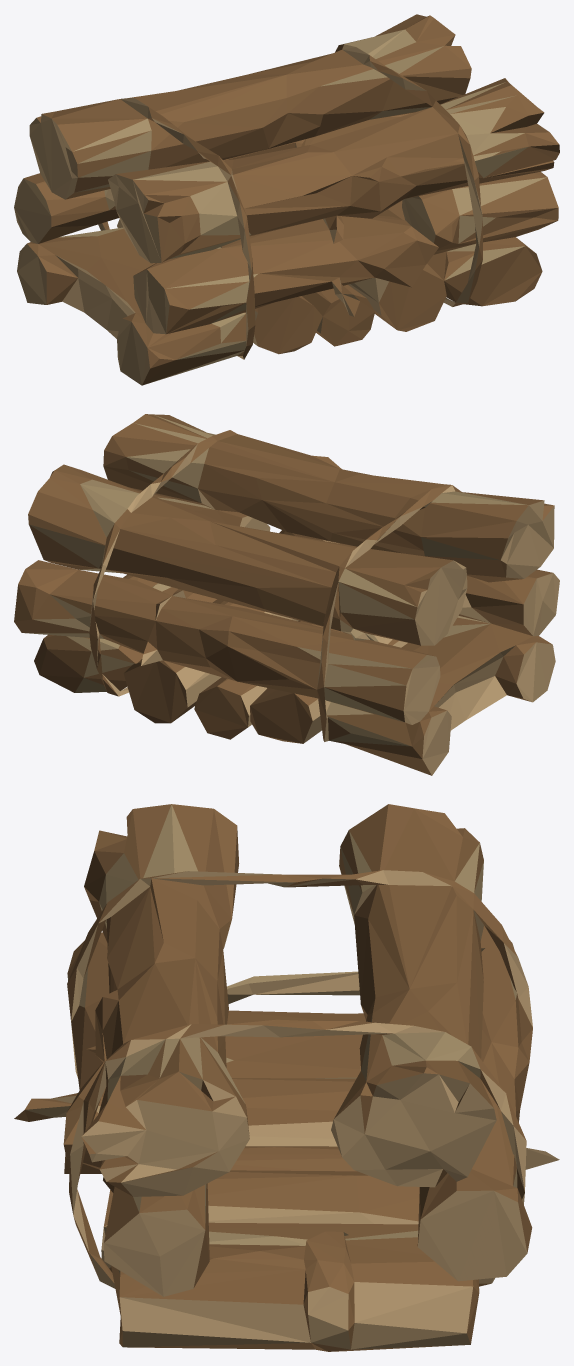
File: S14_firewood_bundle_a.glb
3 views of the same model, one above another, from view 1: azimuth 30°, elevation 25°; view 2: azimuth 150°, elevation 25°; view 3: azimuth 270°, elevation 25° (orthographic). The views are drawn at different scales.
Parts seen in each view (by area): view 1: Mesh_0; view 2: Mesh_0; view 3: Mesh_0.
Part boxes in pixels (x1,y1,x2,y2): Mesh_0: (14,14,559,385); Mesh_0: (14,414,559,775); Mesh_0: (14,804,559,1351).
Bounding box in the file's own units: 0.65 × 0.3127 × 0.5179.
